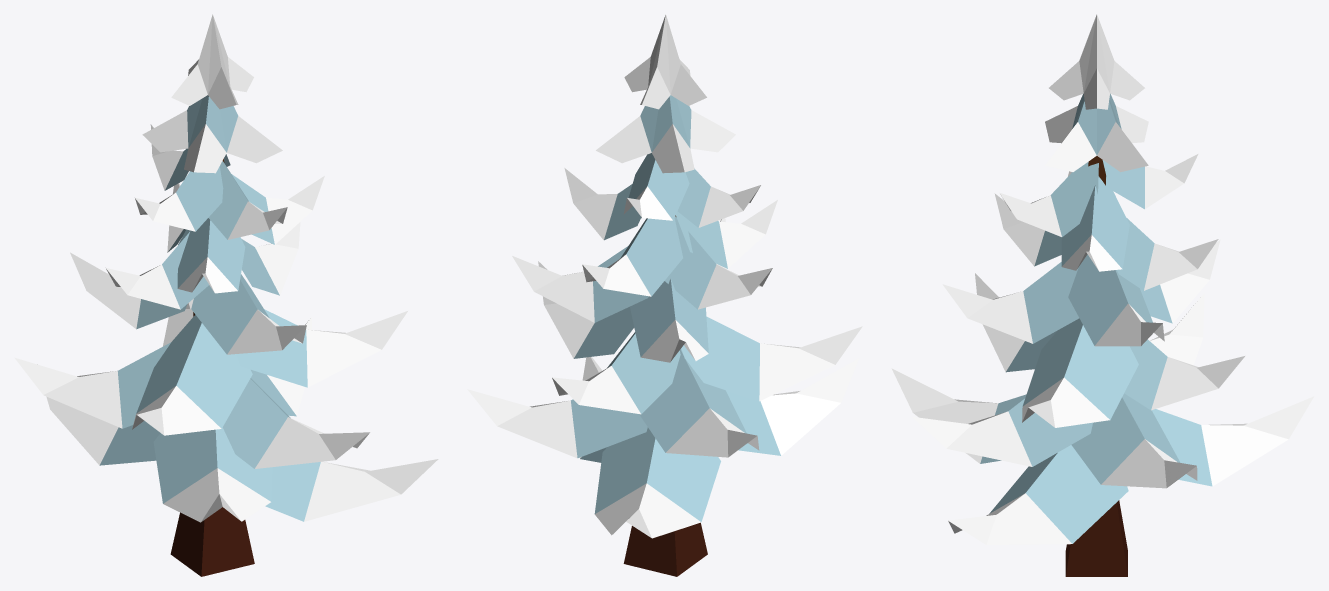
The model's file is spruce2.fbx.
3 views of the same model, side by side, from view 1: azimuth 30°, elevation 25°; view 2: azimuth 150°, elevation 25°; view 3: azimuth 270°, elevation 25° (orthographic).
Parts seen in each view (by area): view 1: plane_5, plane_19, plane_20, plane_2, plane_6, plane, plane_4, plane_10, stem, plane_1, plane_14, plane_18 (+9 smaller); view 2: plane_1, plane_5, plane_4, plane_3, plane, plane_19, plane_7, plane_8, plane_12, plane_11, plane_9, plane_18 (+6 smaller); view 3: plane_20, plane_6, plane_3, plane_1, plane_2, plane, plane_10, plane_9, plane_7, plane_13, plane_18, stem (+8 smaller).
Part boxes in pixels (bbox=[...]): plane_5: bbox=[132, 315, 252, 435]; plane_19: bbox=[153, 427, 272, 522]; plane_20: bbox=[265, 459, 438, 521]; plane_2: bbox=[222, 378, 369, 468]; plane_6: bbox=[236, 309, 407, 387]; plane: bbox=[142, 95, 282, 173]; plane_4: bbox=[14, 342, 170, 428]; plane_10: bbox=[191, 274, 306, 354]; stem: bbox=[170, 158, 254, 576]; plane_1: bbox=[37, 364, 160, 465]; plane_14: bbox=[177, 218, 245, 293]; plane_18: bbox=[171, 14, 253, 109]; plane_1: bbox=[594, 427, 720, 538]; plane_5: bbox=[681, 316, 862, 401]; plane_4: bbox=[639, 348, 759, 457]; plane_3: bbox=[467, 389, 647, 458]; plane: bbox=[596, 95, 735, 173]; plane_19: bbox=[726, 358, 859, 455]; plane_7: bbox=[552, 332, 680, 414]; plane_8: bbox=[630, 278, 708, 362]; plane_12: bbox=[582, 218, 682, 296]; plane_11: bbox=[665, 216, 772, 309]; plane_9: bbox=[512, 246, 648, 322]; plane_18: bbox=[624, 14, 706, 109]; plane_20: bbox=[948, 445, 1128, 544]; plane_6: bbox=[1022, 318, 1138, 427]; plane_3: bbox=[1071, 393, 1197, 488]; plane_1: bbox=[1152, 396, 1314, 486]; plane_2: bbox=[912, 398, 1092, 466]; plane: bbox=[1045, 93, 1148, 172]; plane_10: bbox=[942, 262, 1078, 343]; plane_9: bbox=[1068, 254, 1164, 346]; plane_7: bbox=[1124, 339, 1244, 410]; plane_13: bbox=[1061, 176, 1129, 271]; plane_18: bbox=[1049, 14, 1144, 109]; stem: bbox=[1065, 156, 1127, 576].
Bounding box in the file's own units: 503 × 853 × 595.
1 material, 1 textured.
